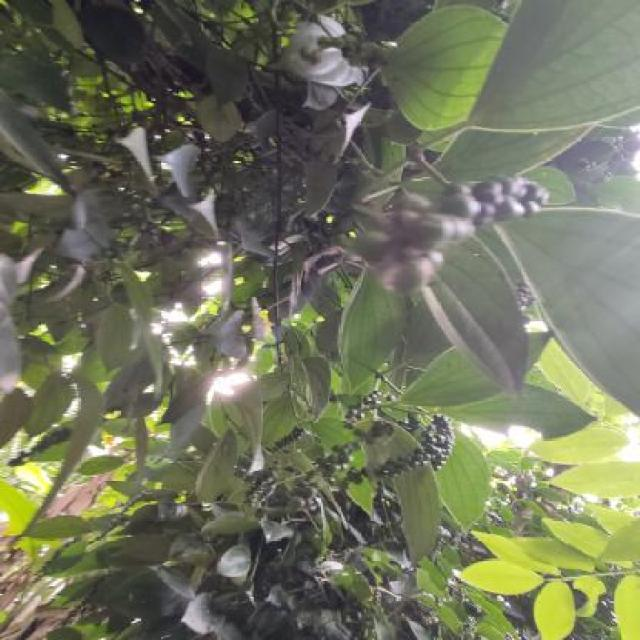UNRIPE: (354, 175, 549, 291), (283, 440, 363, 509), (376, 414, 465, 471), (343, 388, 380, 429), (248, 466, 275, 505), (269, 423, 303, 451)
